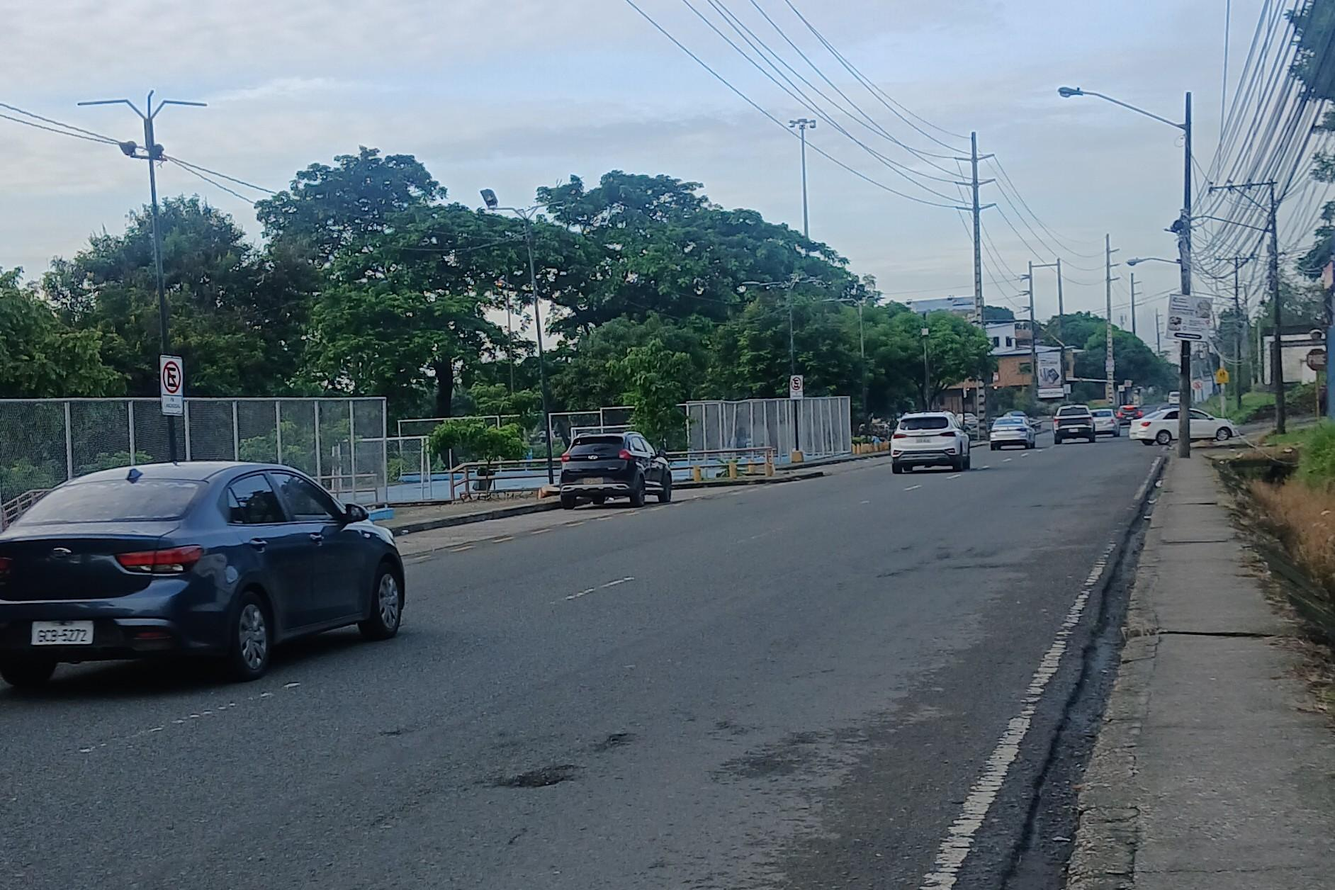license_plate: (30, 621, 93, 646)
